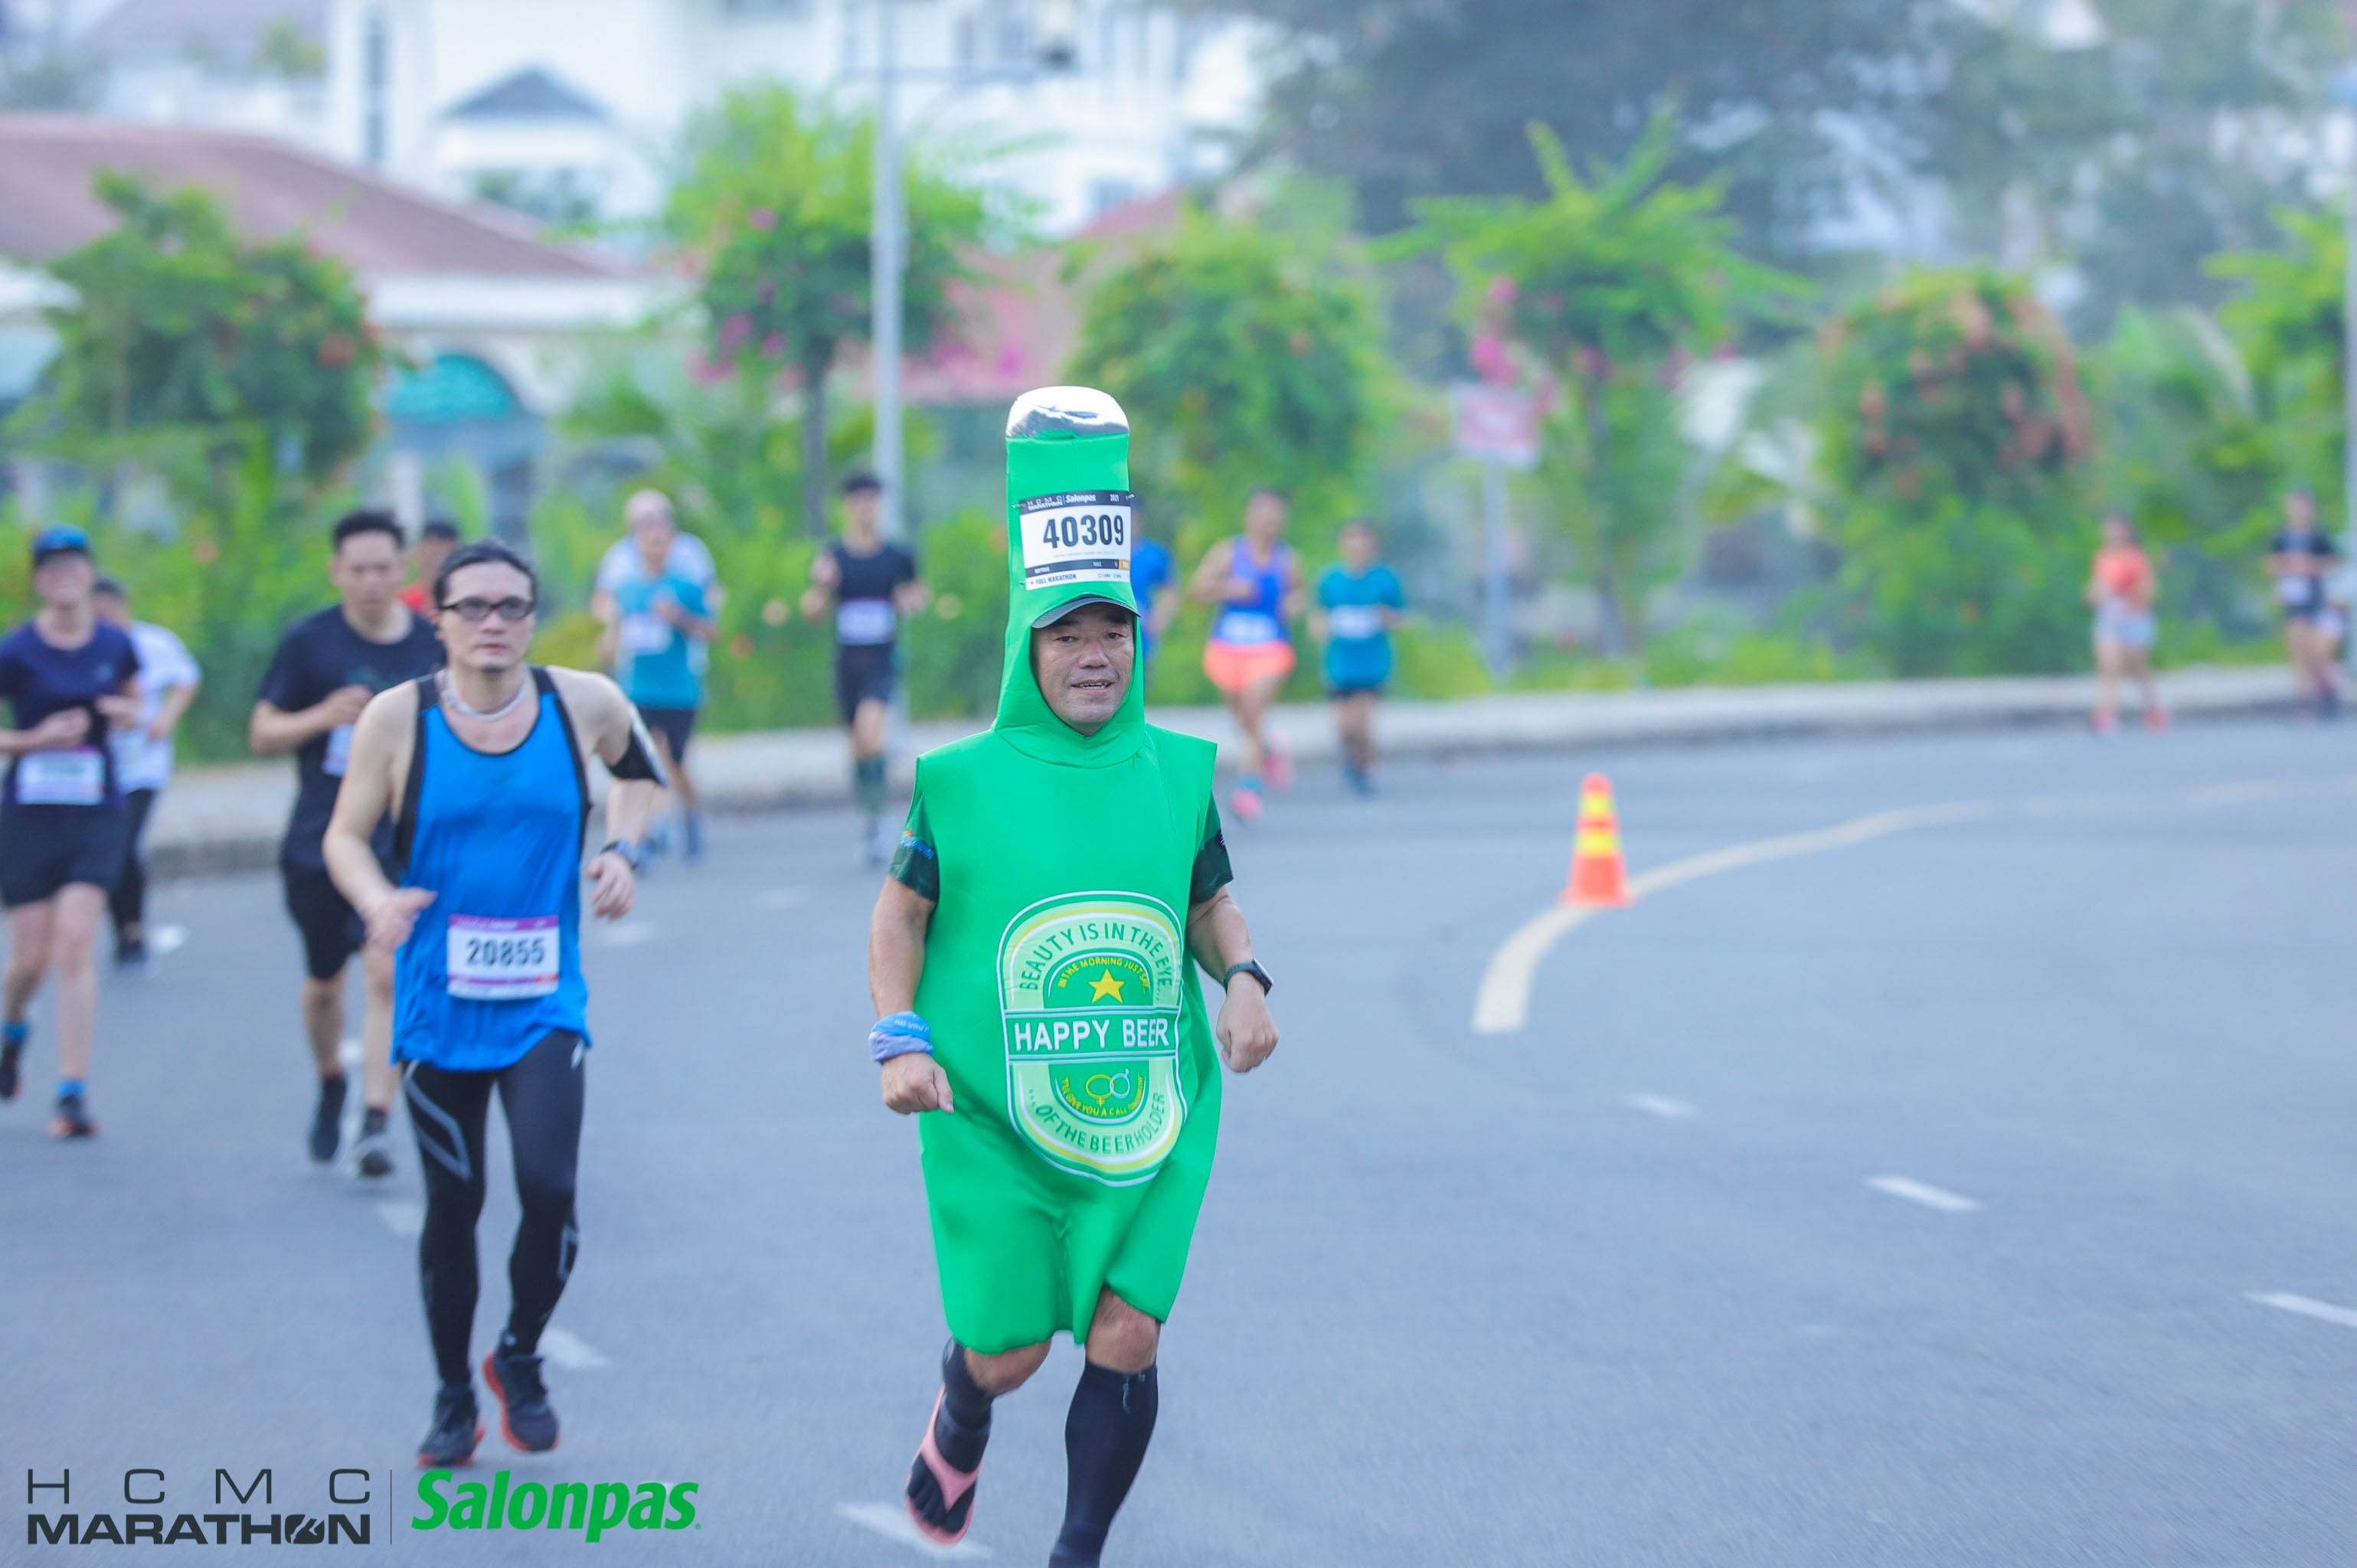bib: (1020, 492, 1134, 584), (444, 917, 560, 997), (19, 749, 101, 805)
